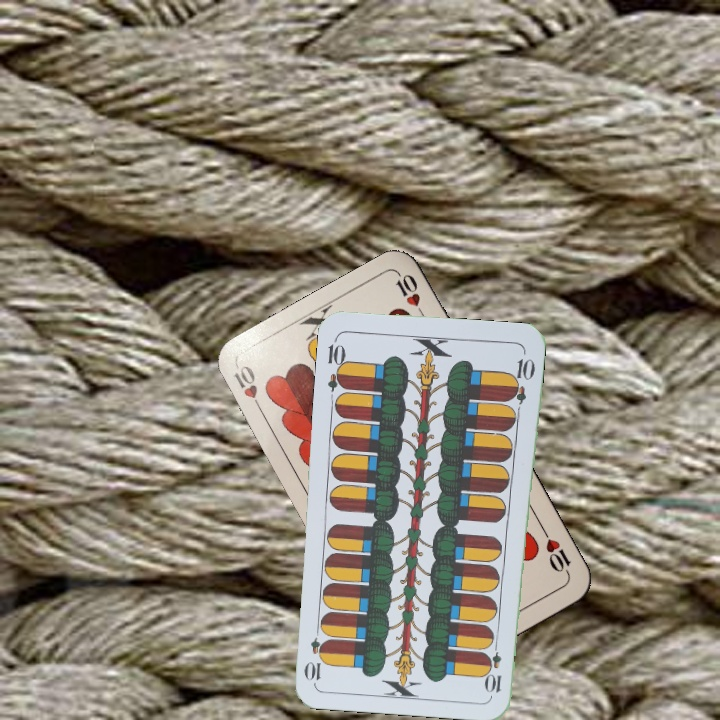E10: (323, 334, 350, 393), (485, 636, 504, 695)
H10: (229, 361, 267, 417), (538, 524, 574, 578)
